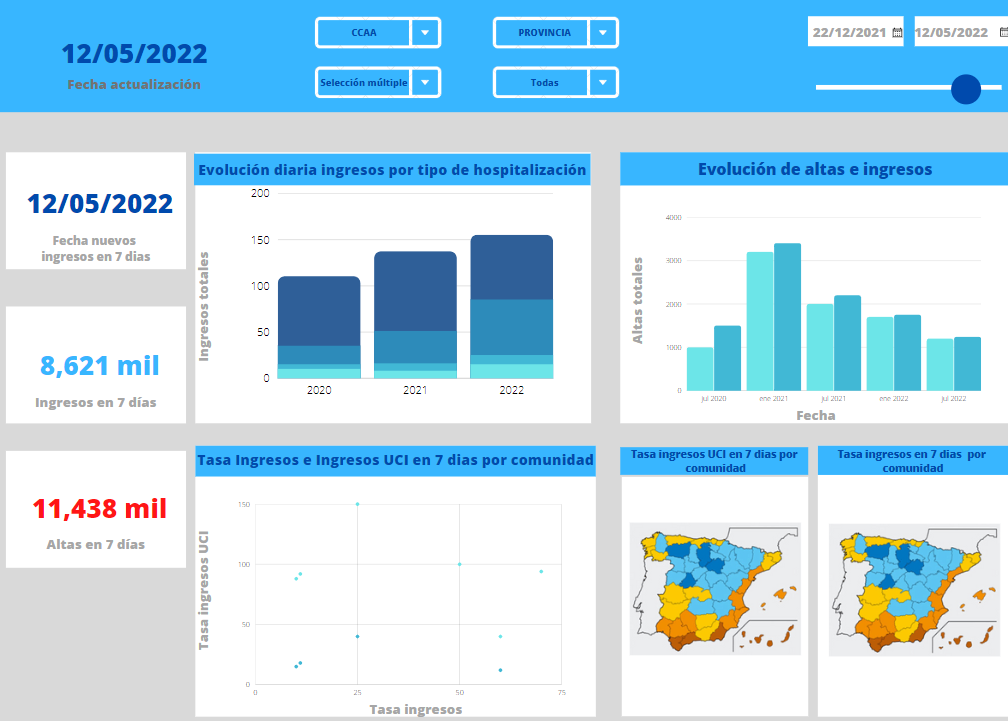

Layout of this report page (visuals, bound fields, positions):
{"tool":"powerbi","page":{"name":"Ingresos y altas hospitalarias","canvas":[1280,720],"ordinal":3},"visuals":[{"type":"card","fields":{"Values":["FACT_HOSPITALES.Datos hospitales actualizados"]},"box":[12.4,9.6,289.8,76.9],"z":0},{"type":"actionButton","box":[12.1,9.6,100.1,39.8],"z":1000},{"type":"slicer","fields":{"Values":["DIM_CALENDARIO.ID_FECHA"]},"box":[880.4,9.6,383.5,77.2],"z":2000},{"type":"slicer","fields":{"Values":["DIM_PROVINCIAS.CCAA1"]},"box":[292.5,9.6,300.8,76.9],"z":3000},{"type":"card","fields":{"Values":["FACT_HOSPITALES.Fecha tasa nuevos ingresos"]},"box":[16,96,272,80],"z":4000},{"type":"card","fields":{"Values":["FACT_HOSPITALES.Tasa nuevos ingresos en 7 dias"]},"box":[16,192,272,80],"z":5000},{"type":"filledMap","title":"Tasa ingresos en 7 días cada 100.000 habitantes por comunidad autónoma","fields":{"Category":["DIM_PROVINCIAS.CCAA"]},"box":[976,384,288,320],"z":6000},{"type":"slicer","fields":{"Values":["DIM_PROVINCIAS.PROVINCIA"]},"box":[593.3,9.6,300.8,76.9],"z":7000},{"type":"hundredPercentStackedColumnChart","title":"Evolución diaria de ingresos por tipo","fields":{"Category":["DIM_CALENDARIO.ID_FECHA.Variación.Date Hierarchy.Year"],"Y":["FACT_HOSPITALES.Ingresos totales"],"Series":["FACT_HOSPITALES.TIPO"]},"box":[304,96,352,272],"z":8000},{"type":"filledMap","title":"Tasa ingresos UCI en 7 días cada 100.000 habitantes por comunidad autónoma","fields":{"Category":["DIM_PROVINCIAS.CCAA"]},"box":[672,384,288,320],"z":9000},{"type":"lineClusteredColumnComboChart","title":"Evolución diaria de altas e ingresos","fields":{"Category":["DIM_CALENDARIO.ID_FECHA.Variación.Date Hierarchy.Year"],"Y2":["FACT_HOSPITALES.Ingresos totales"],"Y":["FACT_HOSPITALES.Altas totales"]},"box":[672,96,592,272],"z":10000},{"type":"scatterChart","title":"Tasa de ingresos e ingresos UCI en 7 días cada 100.000 habitantes por comunidad","fields":{"Category":["DIM_PROVINCIAS.CCAA"],"X":["FACT_HOSPITALES.Tasa nuevos ingresos en 7 dias cada 100000 habitantes"],"Y":["FACT_HOSPITALES.Tasa nuevos ingresos UCI en 7 dias cada 100000 habitantes"],"Size":["FACT_POBLACION.Poblacion datos hospitales"]},"box":[16,384,640,320],"z":11000},{"type":"card","fields":{"Values":["FACT_HOSPITALES.Altas en 7 dias"]},"box":[16,288,272,80],"z":12000}]}

Visuals, with their boxes on the page's 1280x720 design canvas (x1, y1, x2, y2). These are canvas units, not pixel positions in the 1008x721 screenshot, which may show the page scaled, cropped or inside an application window:
card - FACT_HOSPITALES.Datos hospitales actualizados: pyautogui.locateOnScreen(12, 10, 302, 86)
actionButton: pyautogui.locateOnScreen(12, 10, 112, 49)
slicer - DIM_CALENDARIO.ID_FECHA: pyautogui.locateOnScreen(880, 10, 1264, 87)
slicer - DIM_PROVINCIAS.CCAA1: pyautogui.locateOnScreen(292, 10, 593, 86)
card - FACT_HOSPITALES.Fecha tasa nuevos ingresos: pyautogui.locateOnScreen(16, 96, 288, 176)
card - FACT_HOSPITALES.Tasa nuevos ingresos en 7 dias: pyautogui.locateOnScreen(16, 192, 288, 272)
"Tasa ingresos en 7 días cada 100.000 habitantes por comunidad autónoma" filledMap: pyautogui.locateOnScreen(976, 384, 1264, 704)
slicer - DIM_PROVINCIAS.PROVINCIA: pyautogui.locateOnScreen(593, 10, 894, 86)
"Evolución diaria de ingresos por tipo" hundredPercentStackedColumnChart: pyautogui.locateOnScreen(304, 96, 656, 368)
"Tasa ingresos UCI en 7 días cada 100.000 habitantes por comunidad autónoma" filledMap: pyautogui.locateOnScreen(672, 384, 960, 704)
"Evolución diaria de altas e ingresos" lineClusteredColumnComboChart: pyautogui.locateOnScreen(672, 96, 1264, 368)
"Tasa de ingresos e ingresos UCI en 7 días cada 100.000 habitantes por comunidad" scatterChart: pyautogui.locateOnScreen(16, 384, 656, 704)
card - FACT_HOSPITALES.Altas en 7 dias: pyautogui.locateOnScreen(16, 288, 288, 368)
